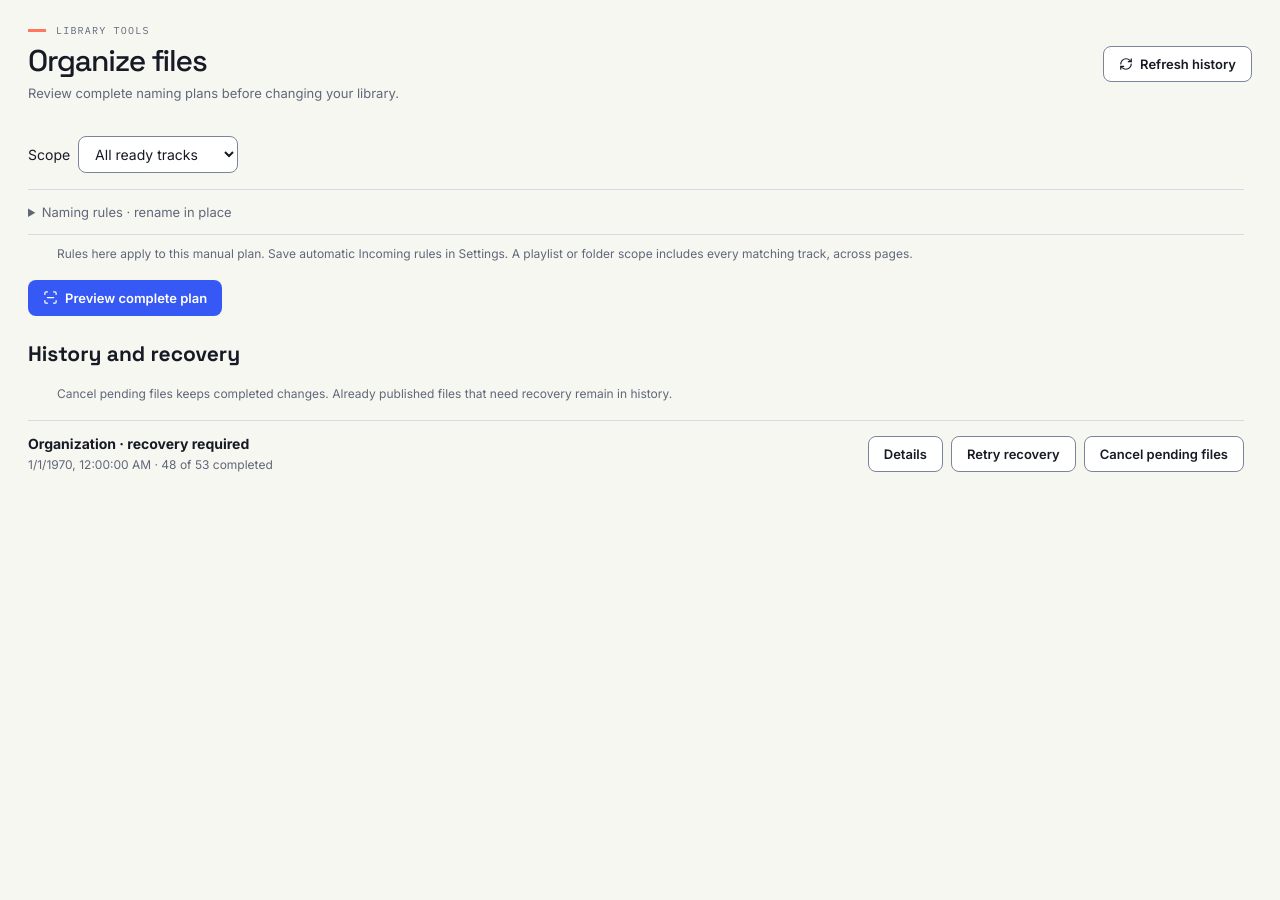
Test: refreshes batch details after cancelling rows even when the batch state stays unchanged
Click the button "Details" at (905, 454), box top-left (868, 436), bottom-right (943, 472)
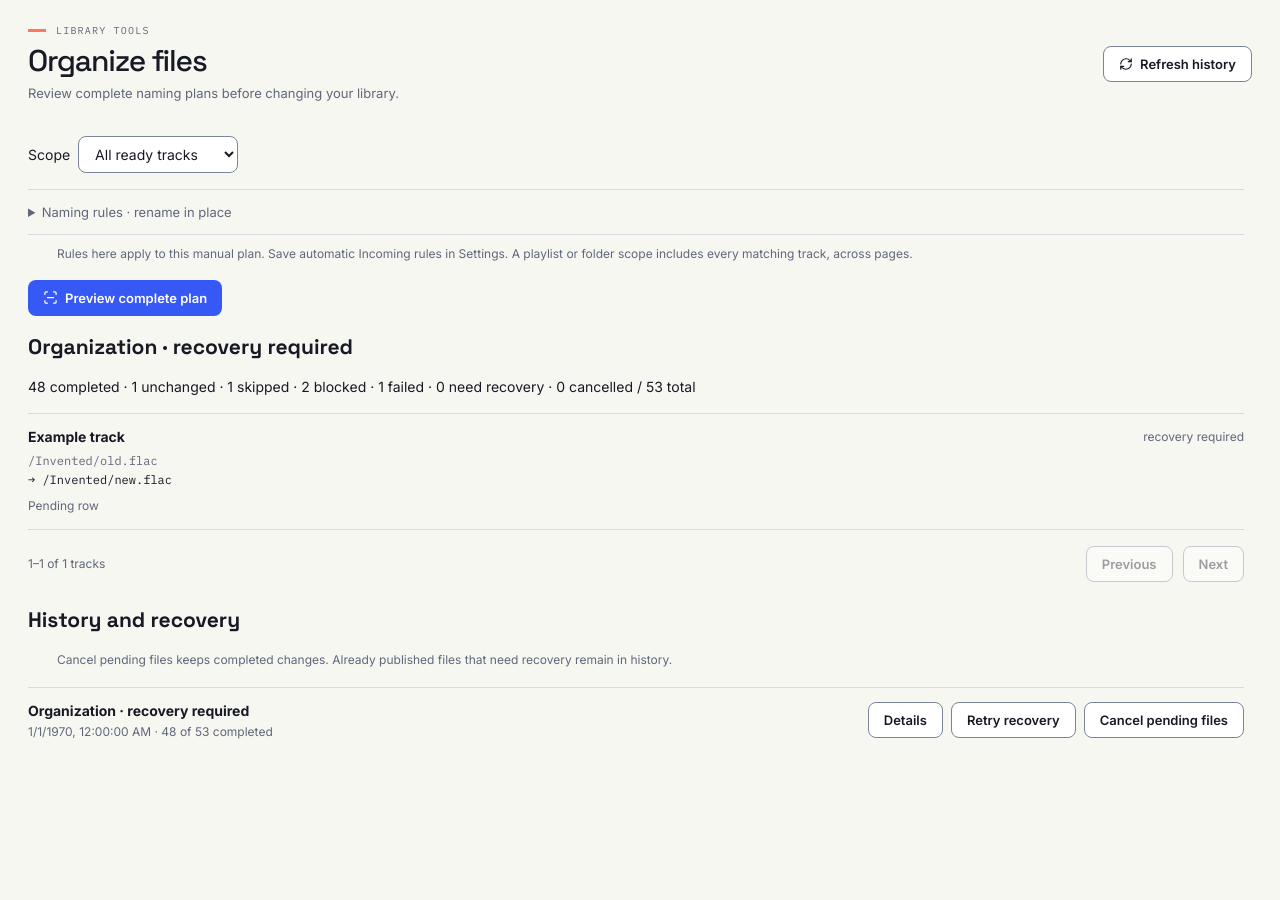
Now the text "Pending row" is shown, box top-left (28, 498), bottom-right (99, 513)
Click the button "Cancel pending files" at (1164, 720), box top-left (1084, 702), bottom-right (1244, 738)
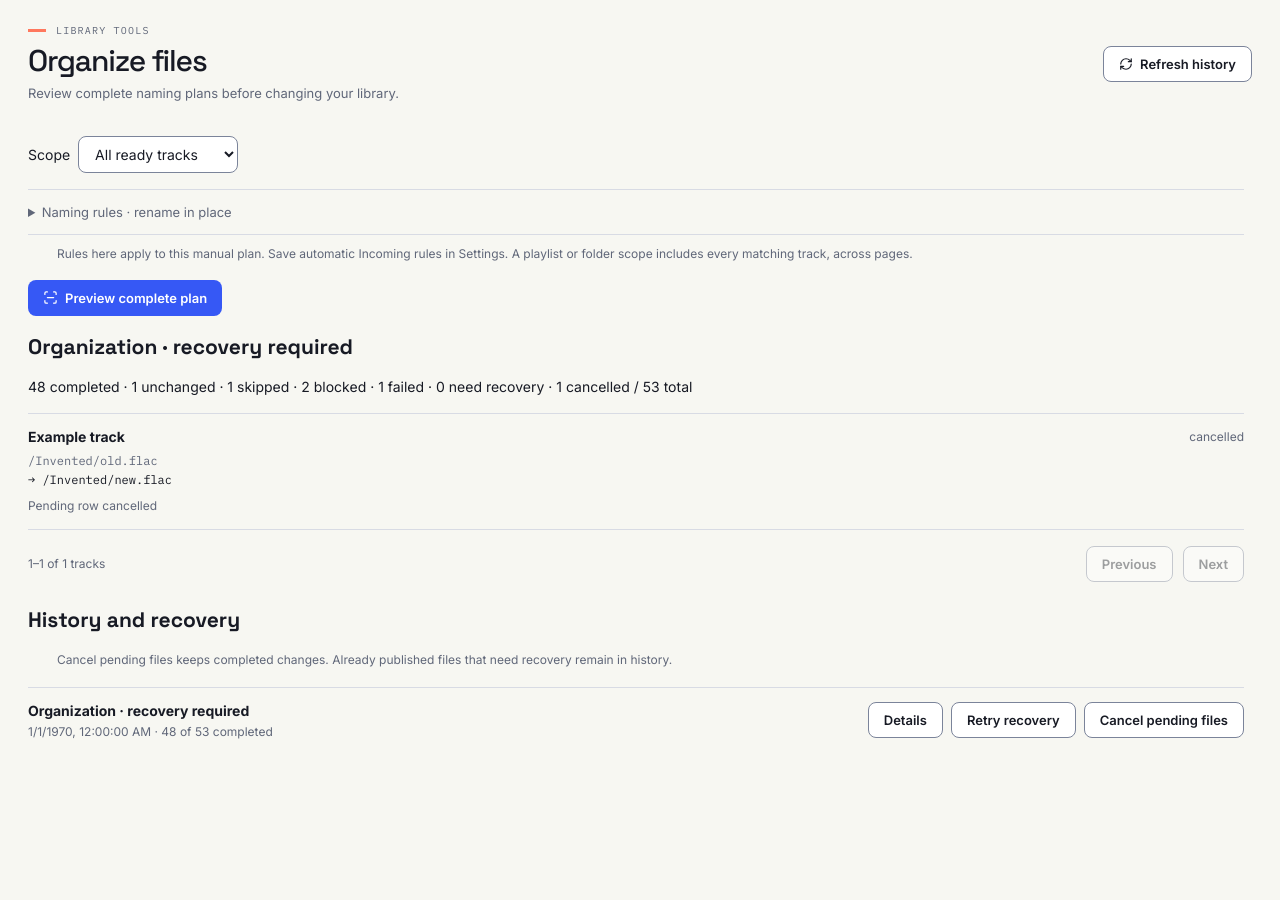
Now the text "Pending row cancelled" is shown, box top-left (28, 498), bottom-right (157, 513)
